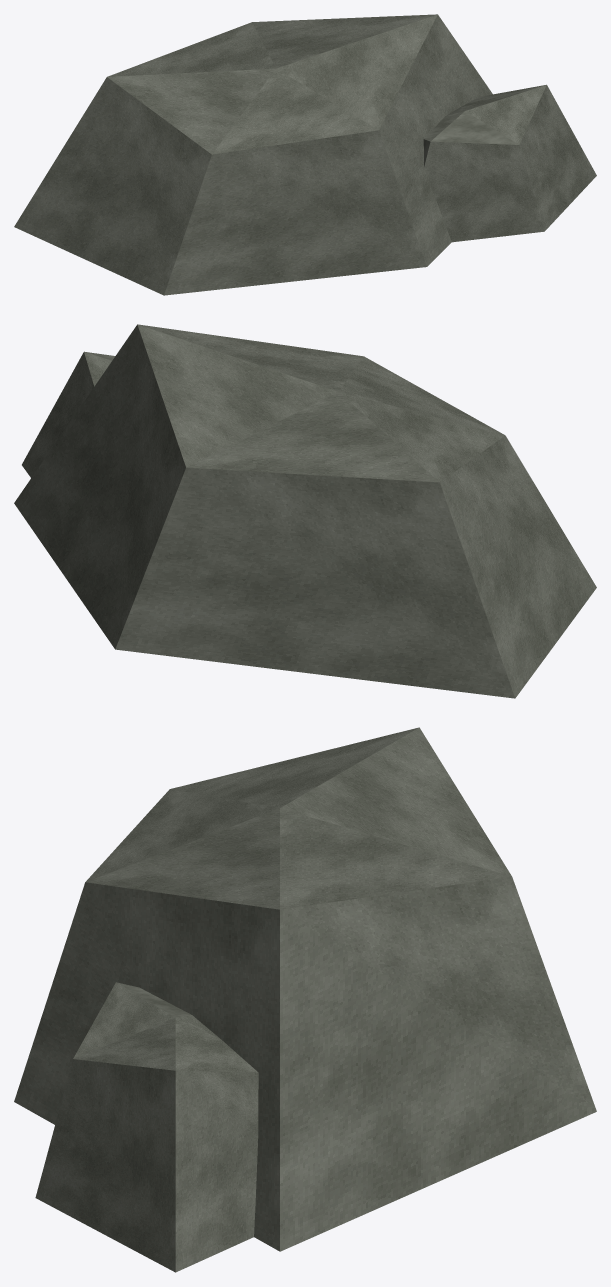
The model's file is broken_stones_lod.gltf.
3 renders of one model, top to bottom at view 1: azimuth 30°, elevation 25°; view 2: azimuth 150°, elevation 25°; view 3: azimuth 270°, elevation 25°, orthographic. The views are drawn at different scales.
Visible parts, largest first — view 1: broken_stones_lod; view 2: broken_stones_lod; view 3: broken_stones_lod.
Boxes of the visible parts, x1=… form: broken_stones_lod: x1=14, y1=14, x2=596, y2=295; broken_stones_lod: x1=14, y1=324, x2=596, y2=698; broken_stones_lod: x1=14, y1=727, x2=596, y2=1272.
Size of the model in its own units: 0.9418 by 0.3085 by 0.6137.
1 material, 1 textured.
